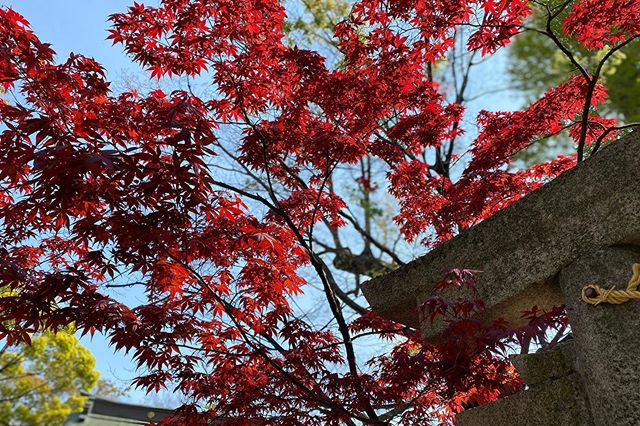building: (363, 134, 640, 426)
vegetation: (3, 1, 640, 424)
